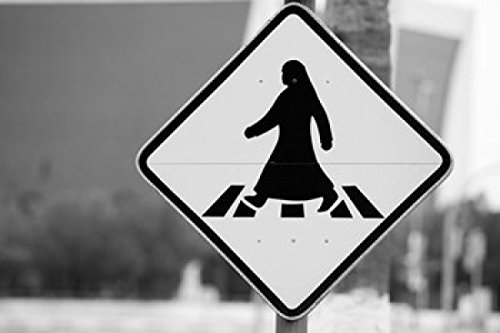pedestrian: (139, 5, 449, 316)
